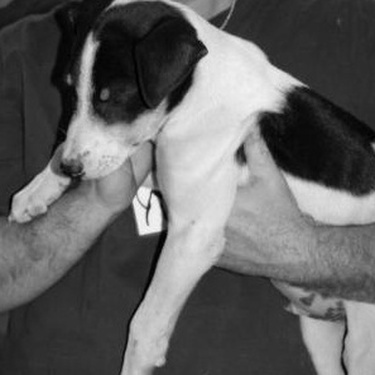dog: (2, 1, 372, 373)
